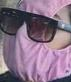with_mask: (1, 2, 71, 82)
